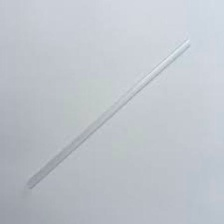drinking_straw: (18, 29, 197, 194)
